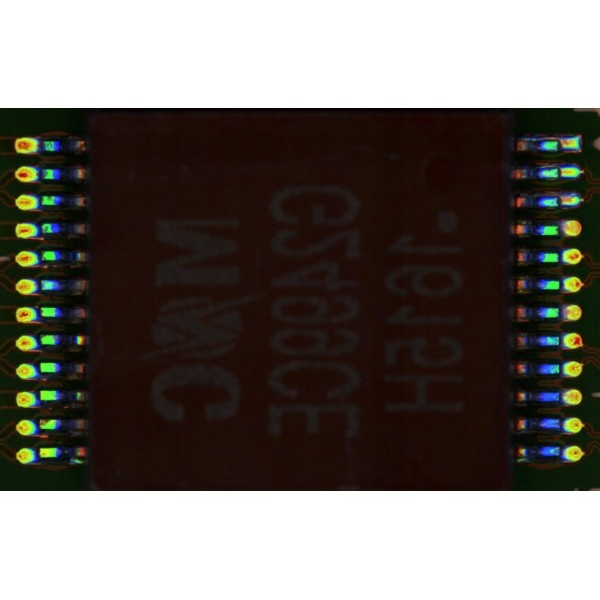Bad_podu: (552, 140, 572, 148), (553, 169, 572, 176), (551, 198, 569, 205)
Bad_qiaojiao: (523, 136, 559, 141)
